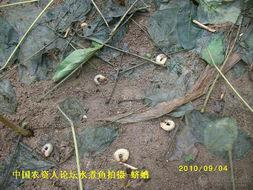grub: (113, 145, 132, 165)
